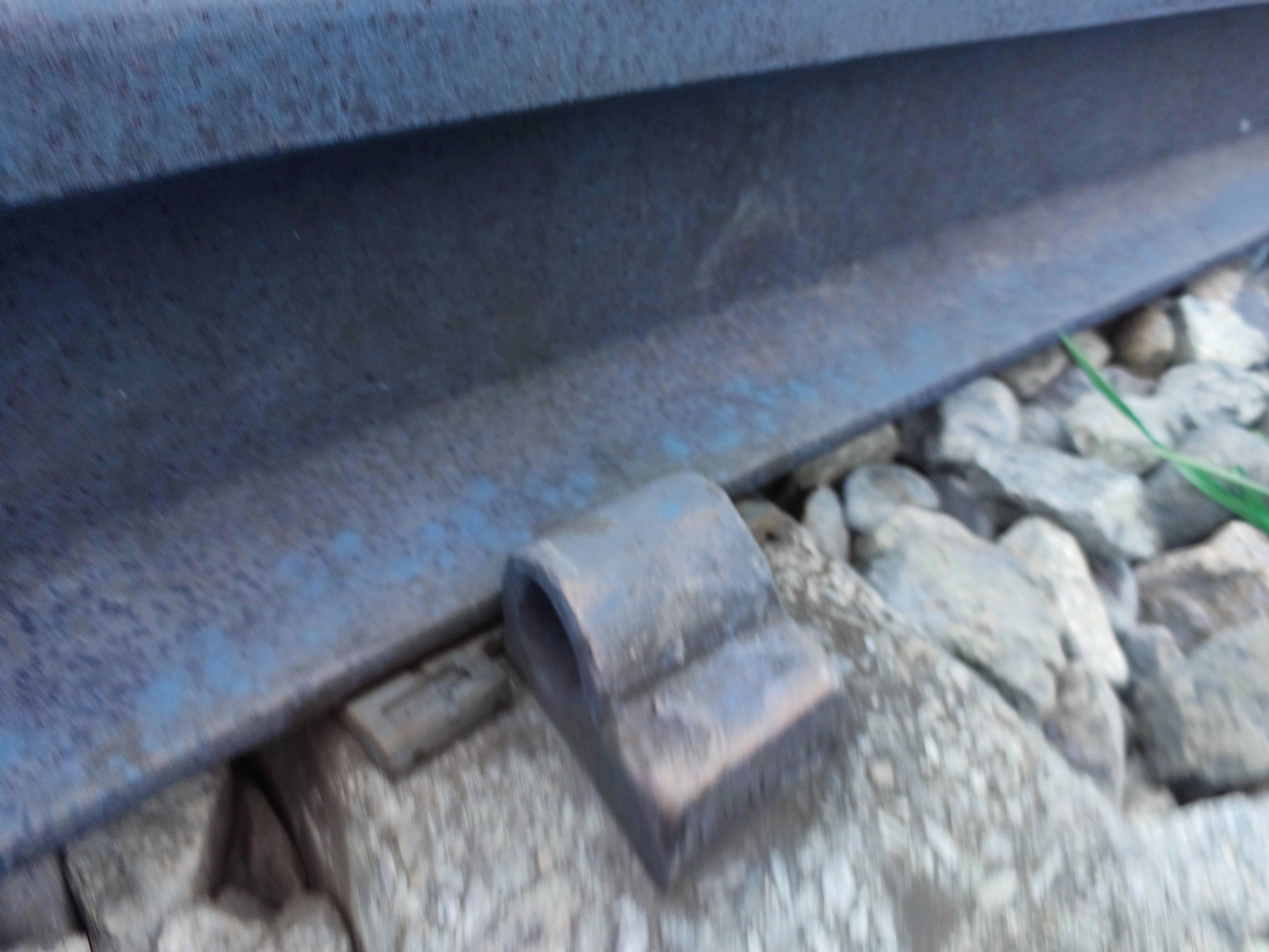loss: (425, 449, 901, 886)
